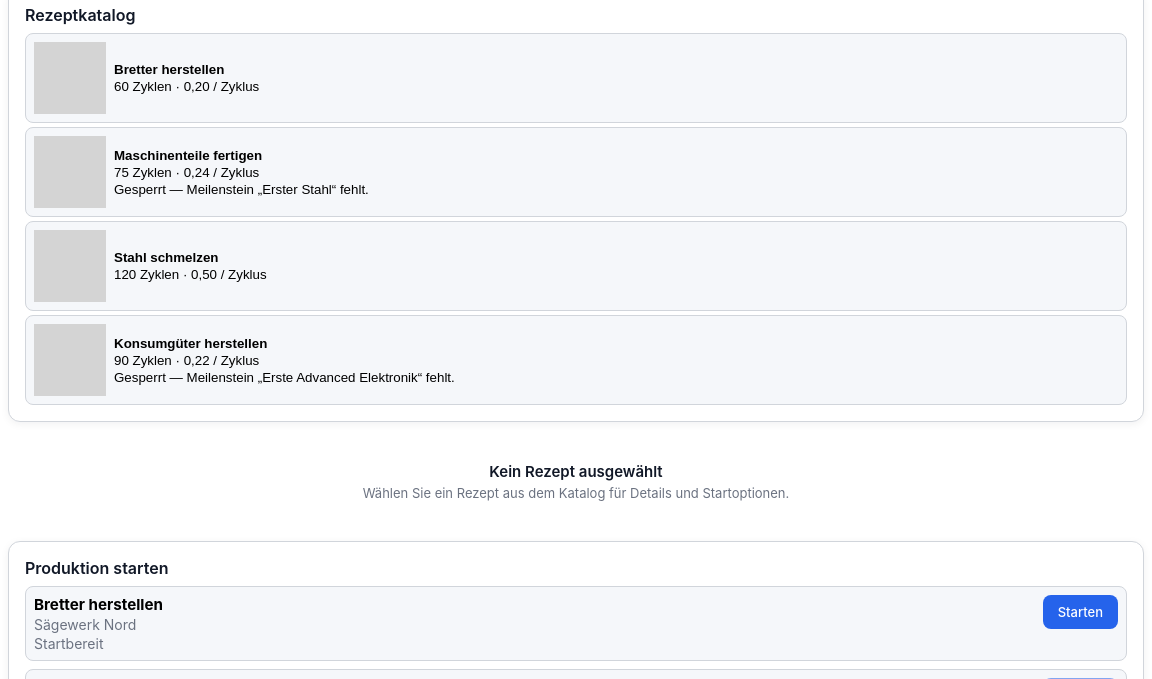
Scenario: ProductionScreen › shows multiple upstream producers for planks input
This screenshot has width=1152, height=679.
(page scrolled)
Click the button "Konsumgüter herstellen": (70, 360) x1=25 y1=315 x2=1127 y2=405
(page scrolled)
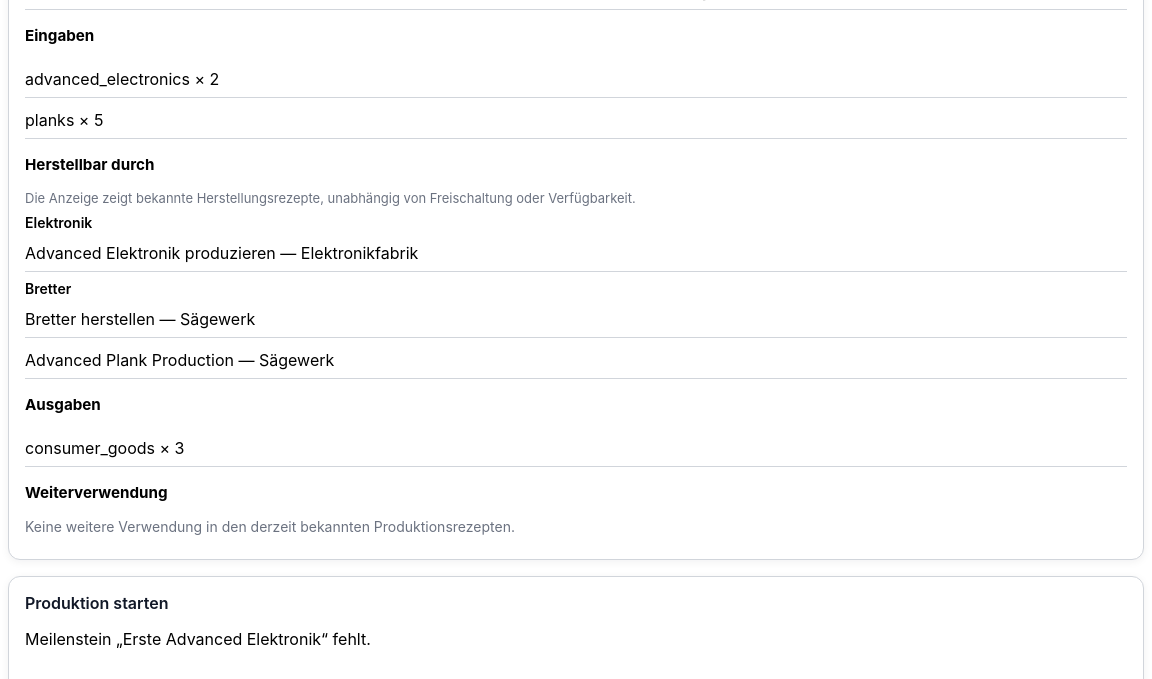
expect the text "Bretter herstellen — Sägewerk" is shown: met, box x1=25 y1=309 x2=255 y2=329
expect the text "Advanced Plank Production — Sägewerk" is shown: met, box x1=25 y1=350 x2=334 y2=370
